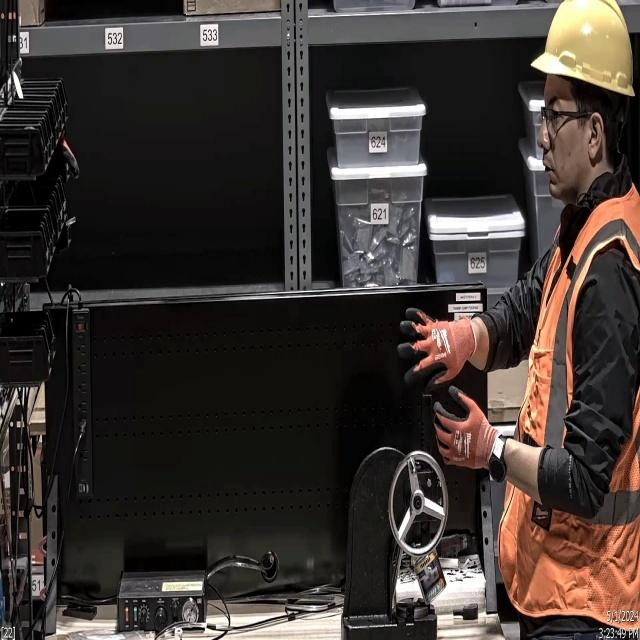gloves: (398, 306, 478, 389), (432, 383, 498, 476)
